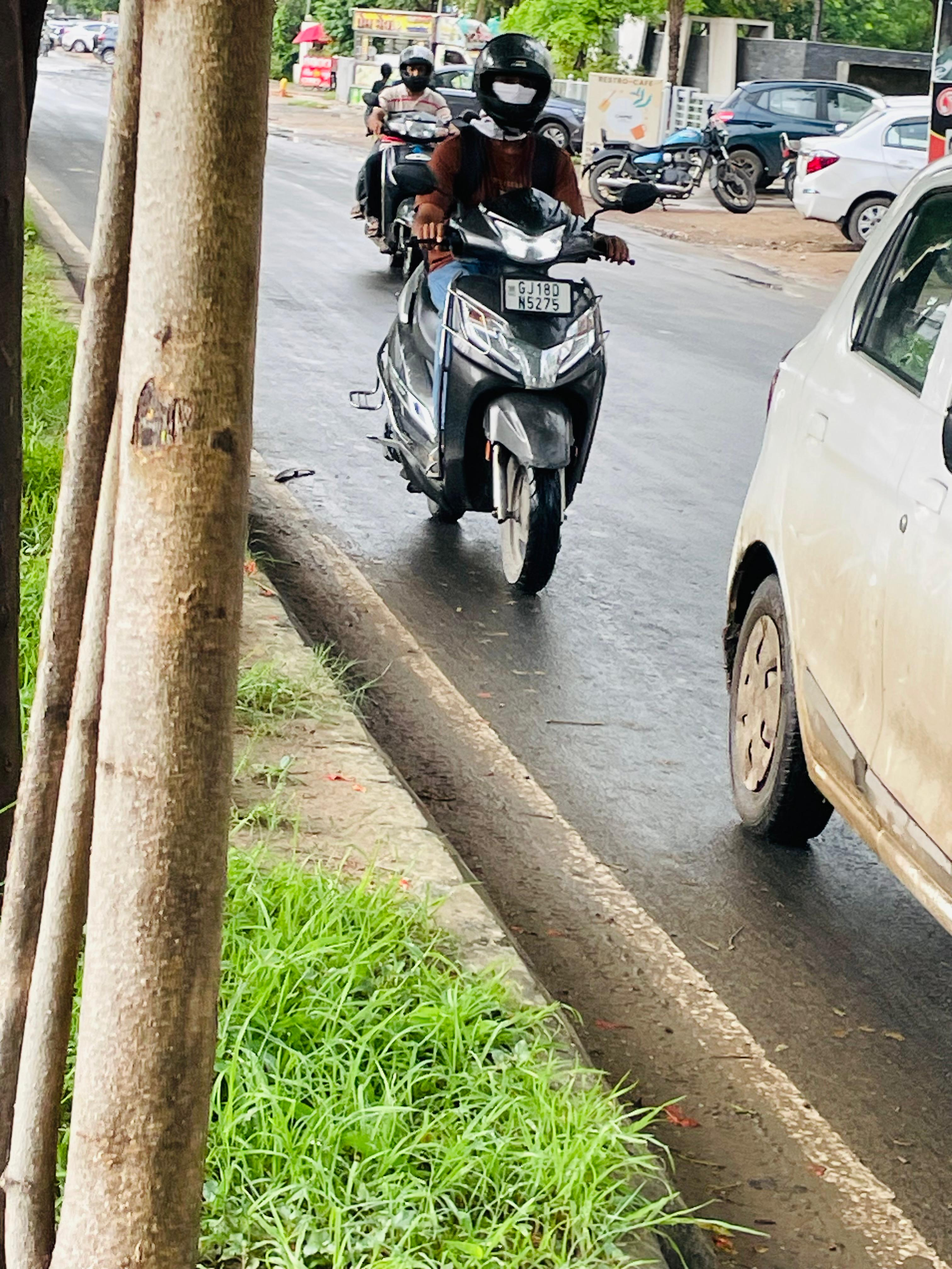Helmet: (463, 28, 562, 134), (395, 41, 439, 93)
NoHelmet: (360, 22, 667, 605), (332, 42, 468, 287)
